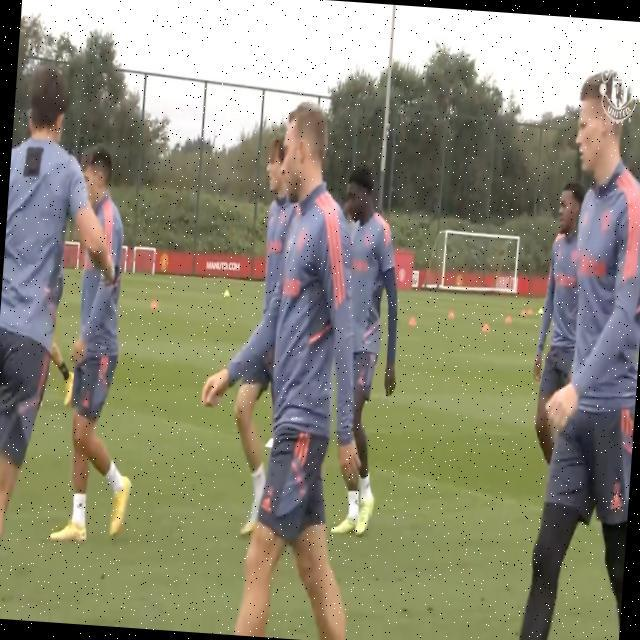Adidas: (609, 491, 624, 512), (261, 497, 275, 516), (75, 497, 84, 512)
